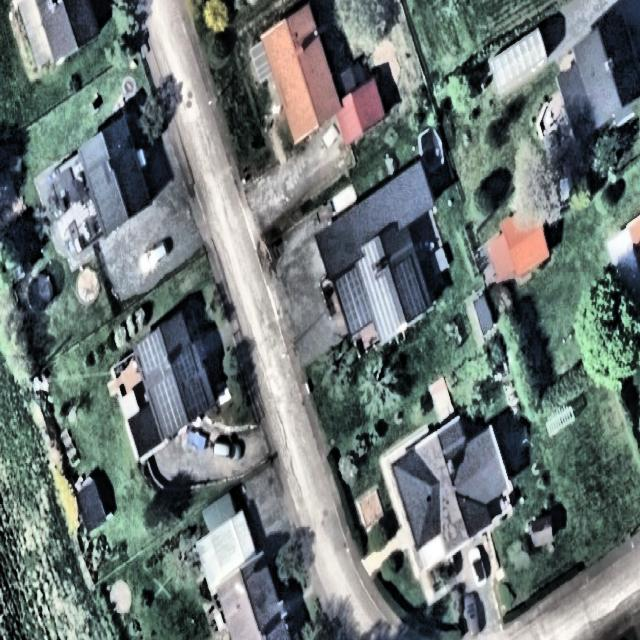roof_pv: (392, 252, 427, 322), (336, 263, 372, 330), (370, 274, 401, 341), (154, 374, 186, 437), (138, 328, 168, 373), (181, 377, 212, 420), (173, 347, 199, 381), (361, 240, 381, 269)
